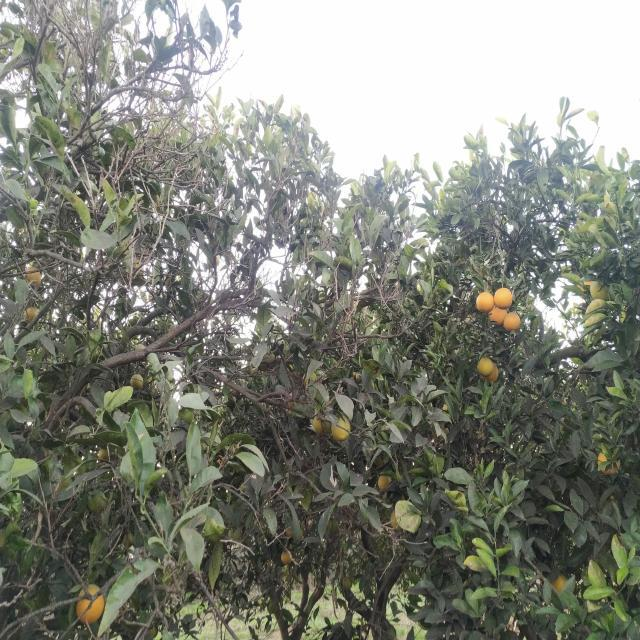Jeruk Belum Matang: (590, 280, 614, 302), (332, 417, 351, 442), (88, 490, 106, 514), (476, 356, 494, 376), (314, 414, 331, 434), (130, 374, 144, 389)
Jeruk Sudah Matang: (75, 584, 105, 624), (598, 452, 620, 475), (494, 288, 512, 310), (576, 278, 594, 300), (476, 292, 494, 313), (504, 312, 522, 332), (490, 306, 507, 326), (481, 363, 498, 383), (26, 266, 41, 288), (23, 306, 38, 324), (378, 474, 391, 490), (281, 550, 293, 564)
